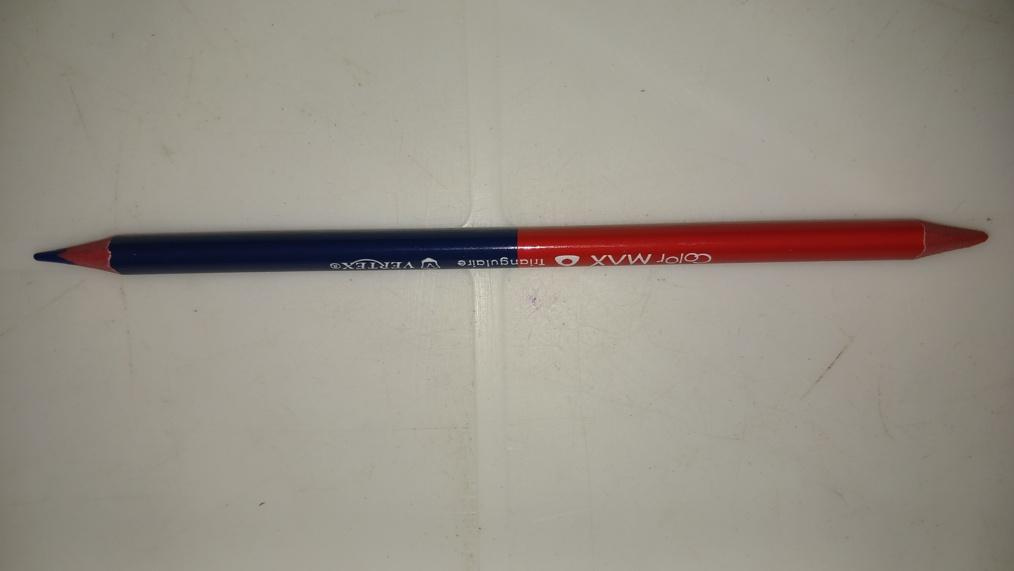Pencil: (30, 221, 993, 275)
